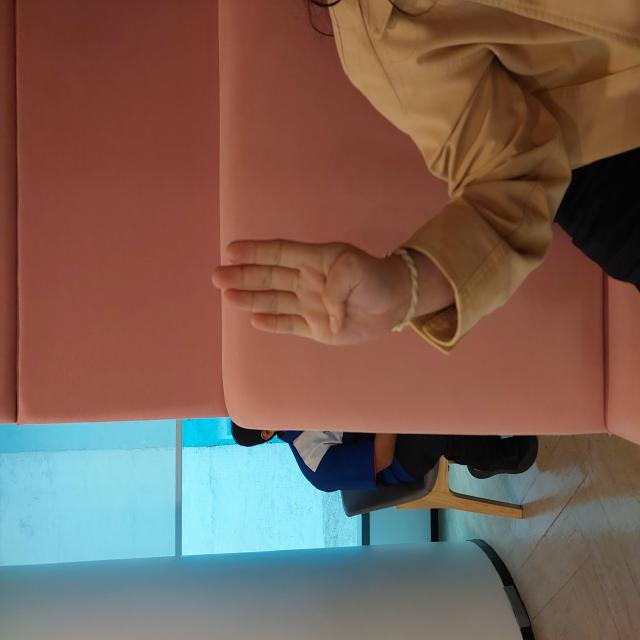B: (289, 206, 407, 410)
